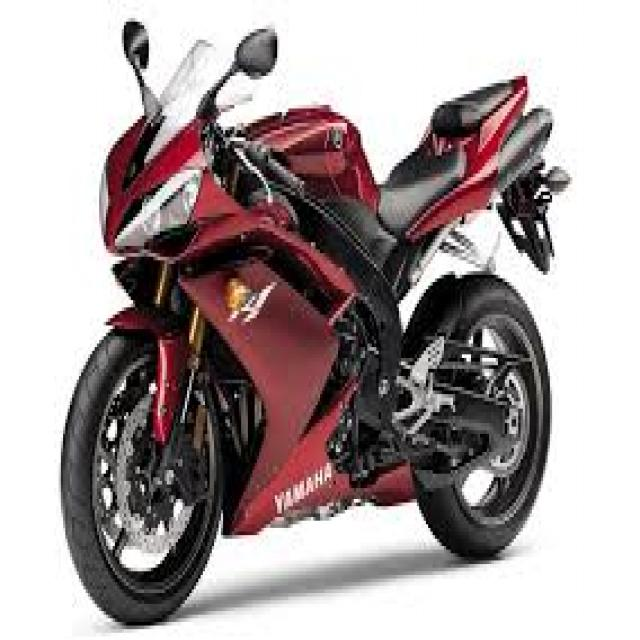Bike: (59, 17, 572, 628)
